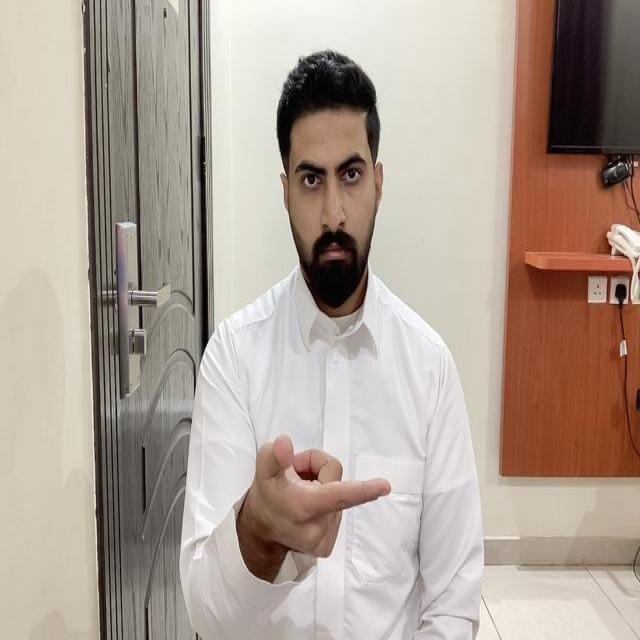dispensing: (243, 433, 391, 559)
